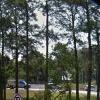Tree: (8, 4, 100, 66)
